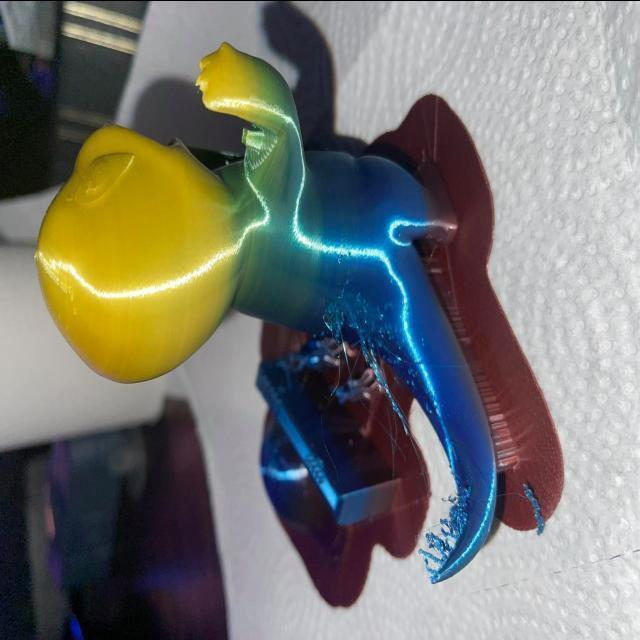stringing: (342, 303, 418, 435), (413, 485, 471, 577)
